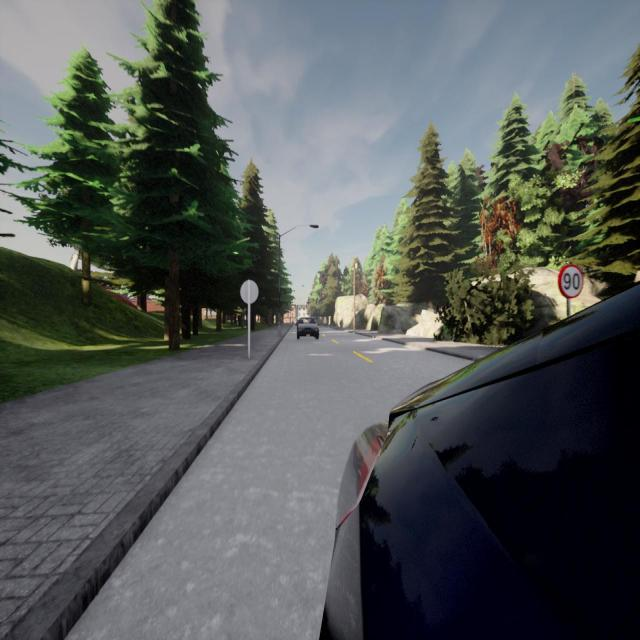Traffic_Signs: (558, 265, 584, 299), (239, 280, 259, 304)
Vehicle: (322, 285, 640, 640), (295, 318, 320, 340)
